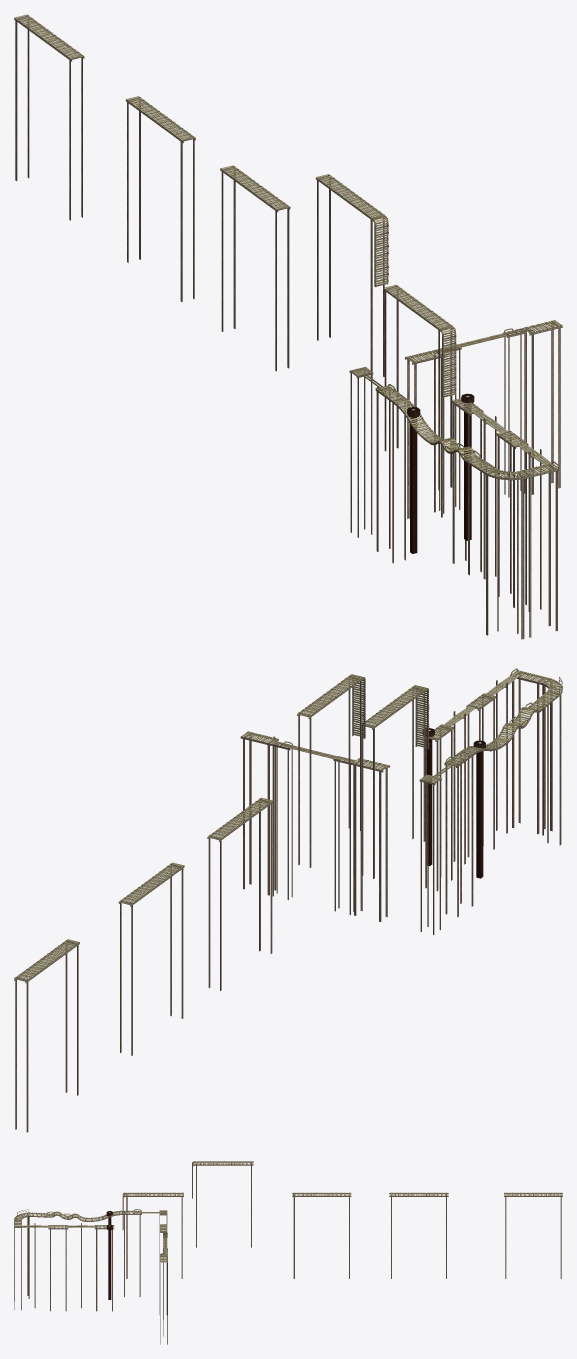
3 views of the same model, one above another, from view 1: azimuth 30°, elevation 25°; view 2: azimuth 150°, elevation 25°; view 3: azimuth 270°, elevation 25° (orthographic). The views are drawn at different scales.
Visible parts, largest first — view 1: ramp_003__2_, ramp_003__4_, ramp_003, ramp_003__3_, ramp_003__1_, ramp_009__5_, Ramp_001__18_, Ramp_001__16_, Ramp_001__15_, Ramp_001__17_, Ramp_001__20_, Ramp_001__33_ (+5 smaller); view 2: ramp_003__2_, ramp_003__4_, ramp_003__1_, ramp_003, ramp_003__3_, Ramp_001__18_, Ramp_001__20_, Ramp_001__16_, Ramp_001__15_, ramp_009__5_, Ramp_001__32_, Ramp_001__33_ (+7 smaller); view 3: ramp_003__4_, ramp_003, ramp_003__2_, ramp_003__1_, ramp_003__3_, ramp_009__5_, Ramp_001__17_, Ramp_001__15_, hakkero__6_, Ramp_001__32_, ramp_001__1_, Ramp_001__20_.
Boxes of the visible parts, bbox=[...] form: ramp_003__2_: bbox=[220, 165, 290, 371]; ramp_003__4_: bbox=[14, 14, 84, 220]; ramp_003: bbox=[383, 284, 453, 490]; ramp_003__3_: bbox=[125, 96, 195, 301]; ramp_003__1_: bbox=[315, 174, 385, 378]; ramp_009__5_: bbox=[484, 468, 527, 639]; Ramp_001__18_: bbox=[523, 320, 562, 494]; Ramp_001__16_: bbox=[520, 463, 560, 637]; Ramp_001__15_: bbox=[375, 385, 407, 563]; Ramp_001__17_: bbox=[496, 430, 528, 607]; Ramp_001__20_: bbox=[405, 349, 444, 518]; Ramp_001__33_: bbox=[349, 366, 373, 537]; ramp_003__2_: bbox=[207, 797, 273, 990]; ramp_003__4_: bbox=[14, 939, 79, 1132]; ramp_003__1_: bbox=[297, 674, 362, 867]; ramp_003: bbox=[361, 685, 426, 878]; ramp_003__3_: bbox=[118, 862, 184, 1055]; Ramp_001__18_: bbox=[240, 731, 278, 895]; Ramp_001__20_: bbox=[352, 758, 389, 921]; Ramp_001__16_: bbox=[510, 670, 547, 834]; Ramp_001__15_: bbox=[444, 750, 474, 917]; ramp_009__5_: bbox=[541, 677, 562, 845]; Ramp_001__32_: bbox=[425, 724, 453, 891]; Ramp_001__33_: bbox=[419, 774, 441, 934]; ramp_003__4_: bbox=[504, 1192, 562, 1278]; ramp_003: bbox=[125, 1192, 183, 1278]; ramp_003__2_: bbox=[292, 1192, 351, 1278]; ramp_003__1_: bbox=[194, 1161, 253, 1247]; ramp_003__3_: bbox=[389, 1192, 448, 1278]; ramp_009__5_: bbox=[14, 1212, 30, 1301]; Ramp_001__17_: bbox=[48, 1225, 68, 1311]; Ramp_001__15_: bbox=[122, 1210, 141, 1296]; hakkero__6_: bbox=[106, 1224, 112, 1299]; Ramp_001__32_: bbox=[94, 1225, 114, 1311]; ramp_001__1_: bbox=[30, 1211, 86, 1221]; Ramp_001__20_: bbox=[159, 1224, 167, 1314].
Bounding box in the file's own units: 3107 × 4112 × 13937.
